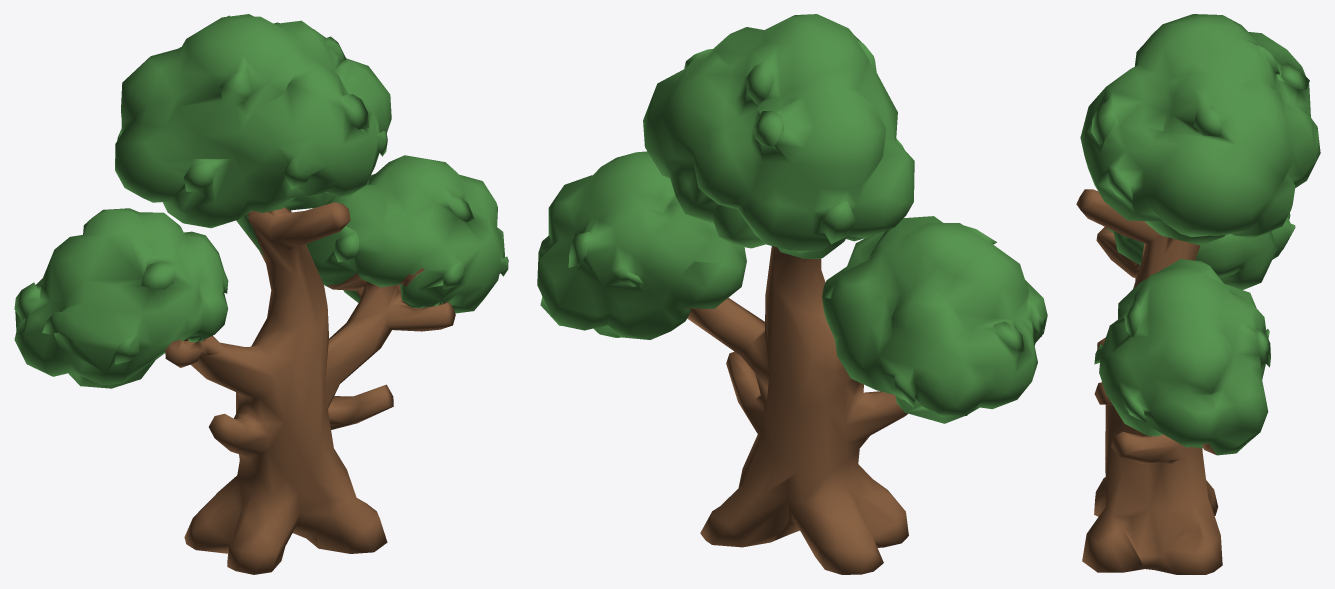
File: tomori-word-tree-game.glb
3 renders of one model, left to right at view 1: azimuth 30°, elevation 25°; view 2: azimuth 150°, elevation 25°; view 3: azimuth 270°, elevation 25°, orthographic. The views are drawn at different scales.
Parts seen in each view (by area): view 1: Mesh_0; view 2: Mesh_0; view 3: Mesh_0.
Part boxes in pixels (x1,y1,x2,y2): Mesh_0: [14, 14, 508, 574]; Mesh_0: [537, 14, 1047, 574]; Mesh_0: [1076, 14, 1320, 574].
Bounding box in the file's own units: 0.9747 × 1 × 0.435.
